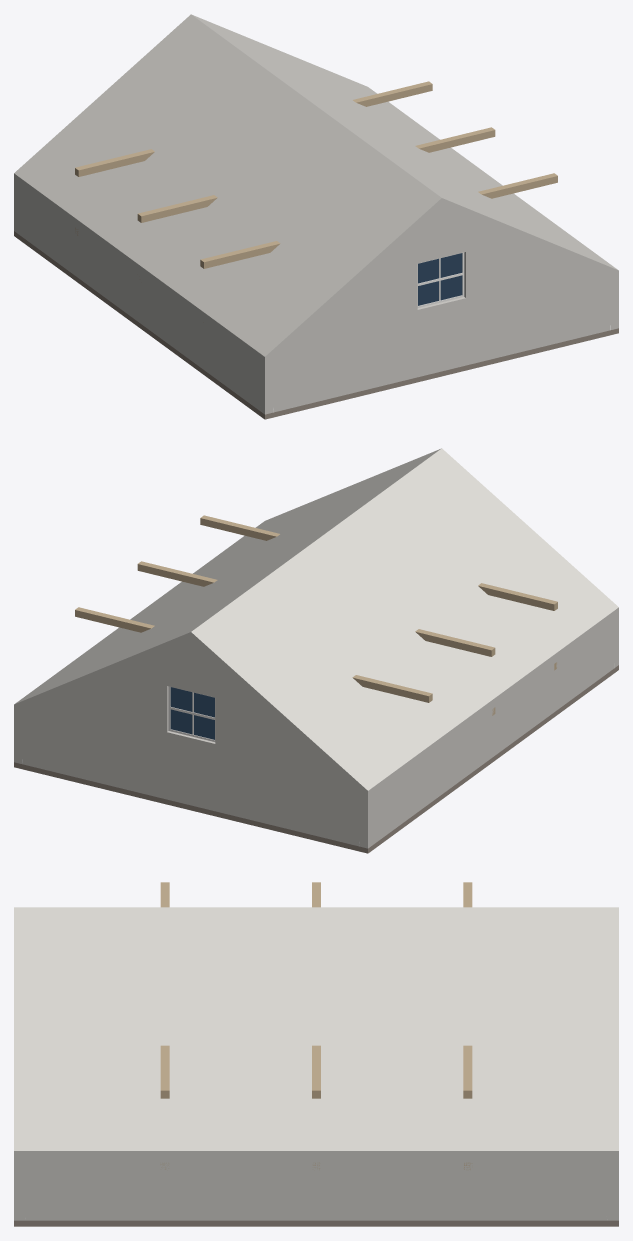
Rendered from interior-attic-v002.glb.
3 views of the same model, one above another, from view 1: azimuth 30°, elevation 25°; view 2: azimuth 150°, elevation 25°; view 3: azimuth 270°, elevation 25° (orthographic). The views are drawn at different scales.
Parts seen in each view (by area): view 1: interior-attic-v002; view 2: interior-attic-v002; view 3: interior-attic-v002.
Boxes of the visible parts, x1,y1,x2,y2 form: interior-attic-v002: (14,14,618,419); interior-attic-v002: (14,448,618,853); interior-attic-v002: (14,882,618,1226).
Bounding box in the file's own units: 8.8 × 4.24 × 10.8.
